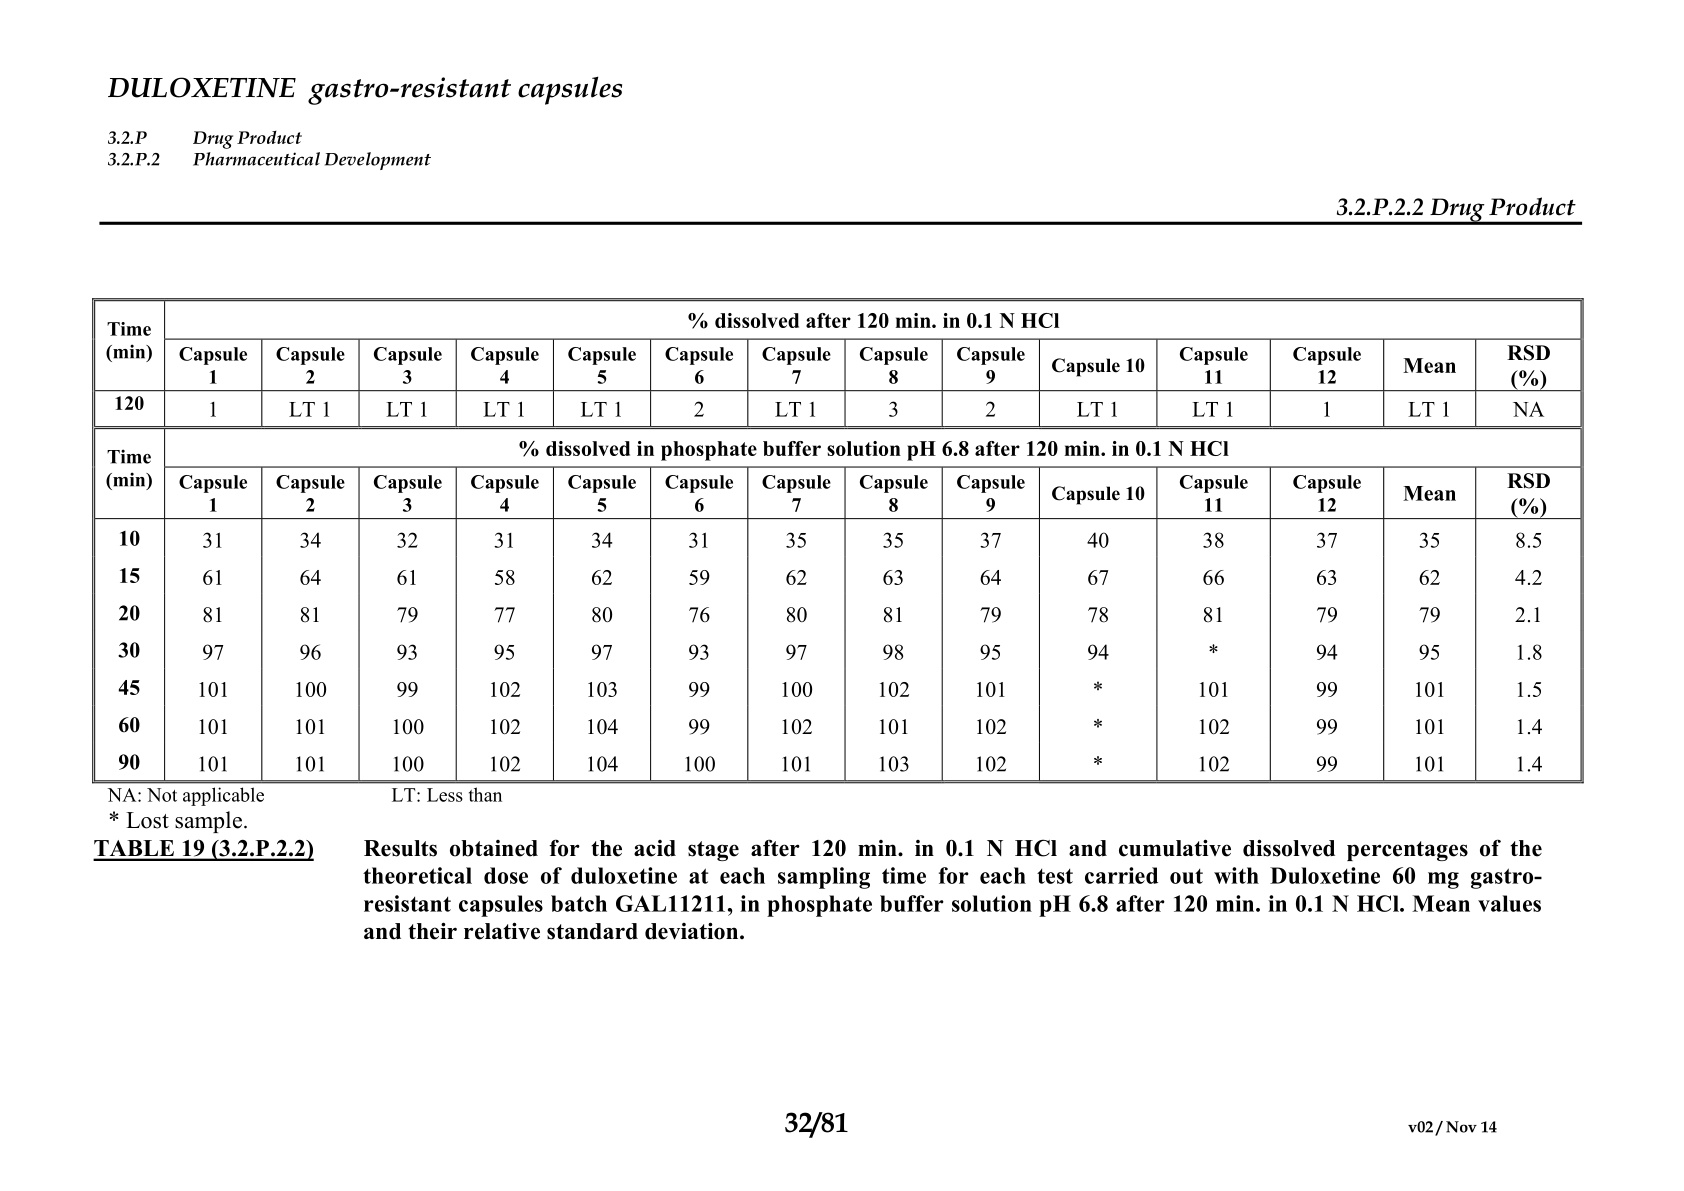merged_cells: (90, 296, 1584, 782)
